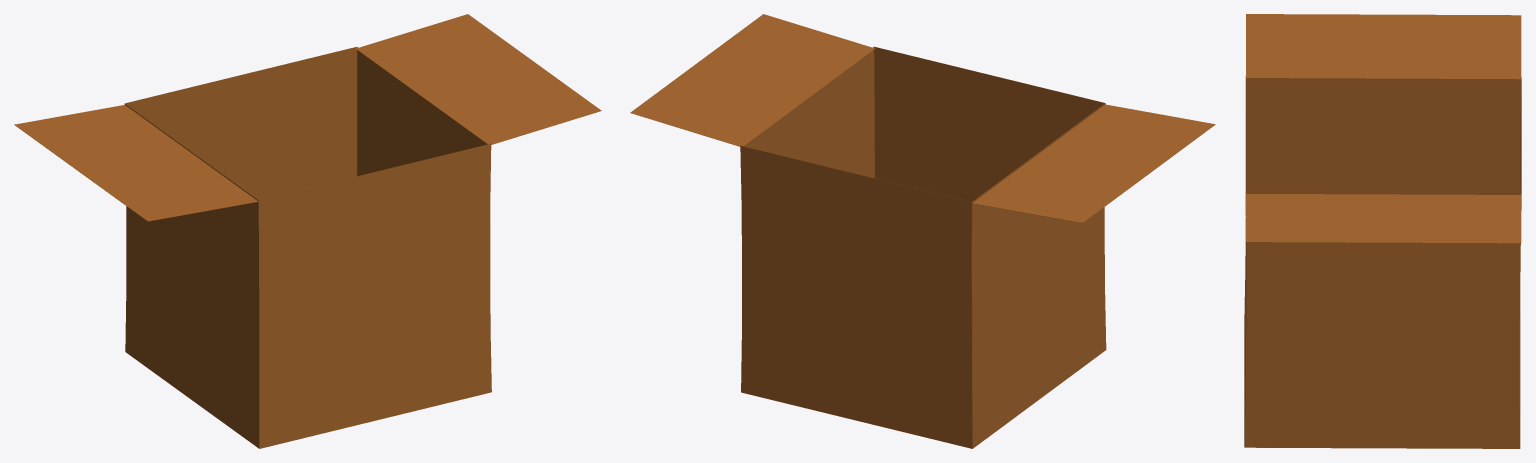
File: PierrotBox_JumpEnd20-35.fbx
3 renders of one model, left to right at view 1: azimuth 30°, elevation 25°; view 2: azimuth 150°, elevation 25°; view 3: azimuth 270°, elevation 25°, orthographic. The views are drawn at different scales.
Visible parts, largest first — view 1: Pierrot_Box_MS; view 2: Pierrot_Box_MS; view 3: Pierrot_Box_MS.
Part boxes in pixels (x1,y1,x2,y2): Pierrot_Box_MS: [14, 14, 601, 448]; Pierrot_Box_MS: [630, 14, 1215, 448]; Pierrot_Box_MS: [1244, 14, 1521, 448].
Size of the model in its own units: 273 by 147 by 140.
